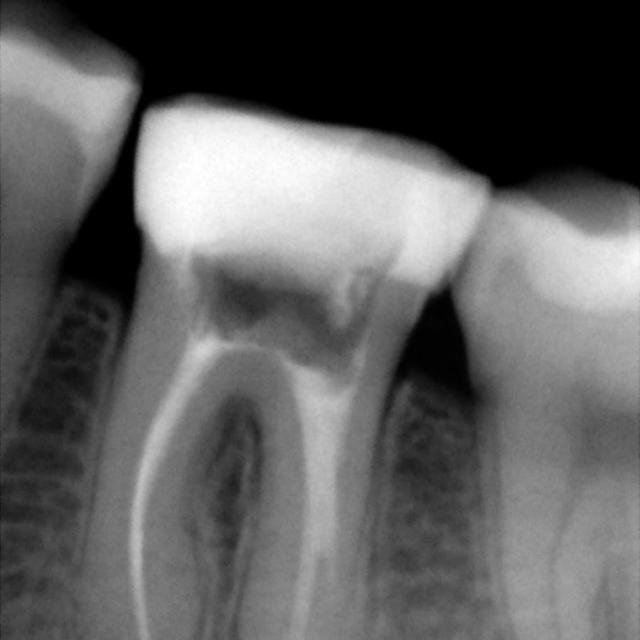Caries: (88, 91, 478, 640)
